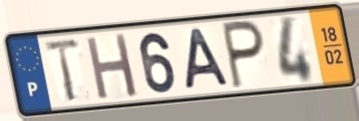4: (277, 14, 316, 86)
6: (137, 30, 179, 96)
A: (184, 26, 233, 93)
H: (83, 31, 141, 103)
P: (220, 18, 267, 92)
T: (42, 36, 82, 105)
